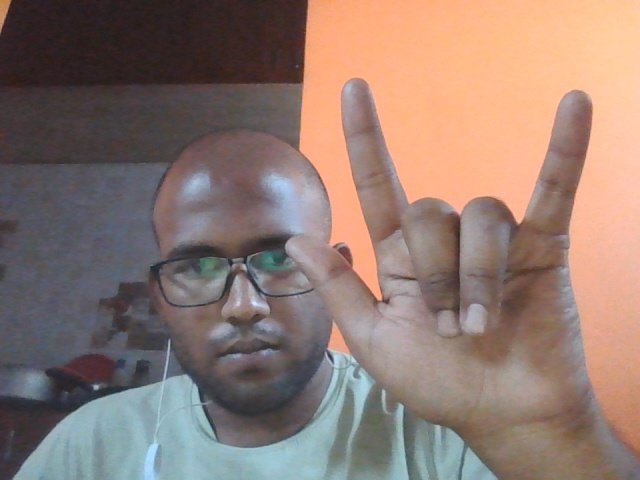iloveyou: (275, 61, 629, 463)
